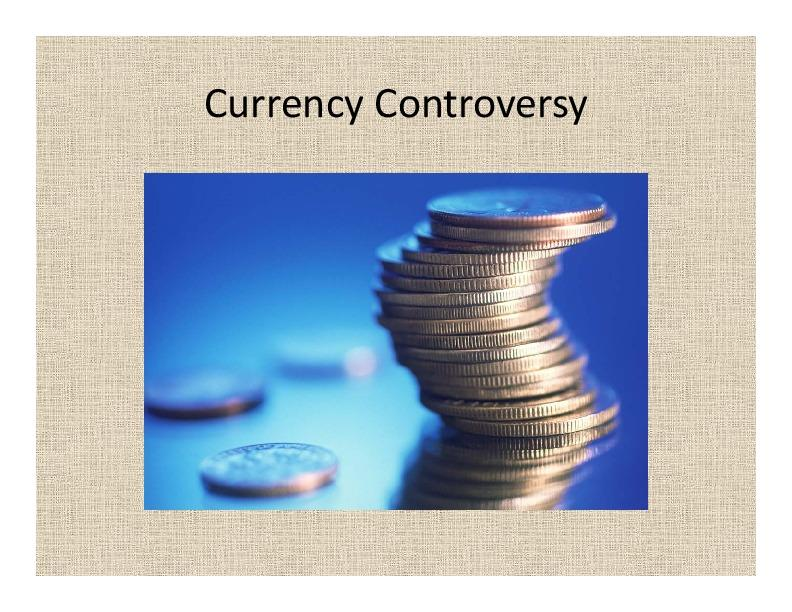title: (199, 76, 600, 137)
